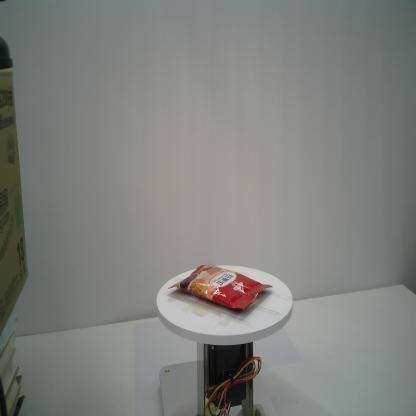Instant Drink: (166, 260, 273, 313)
